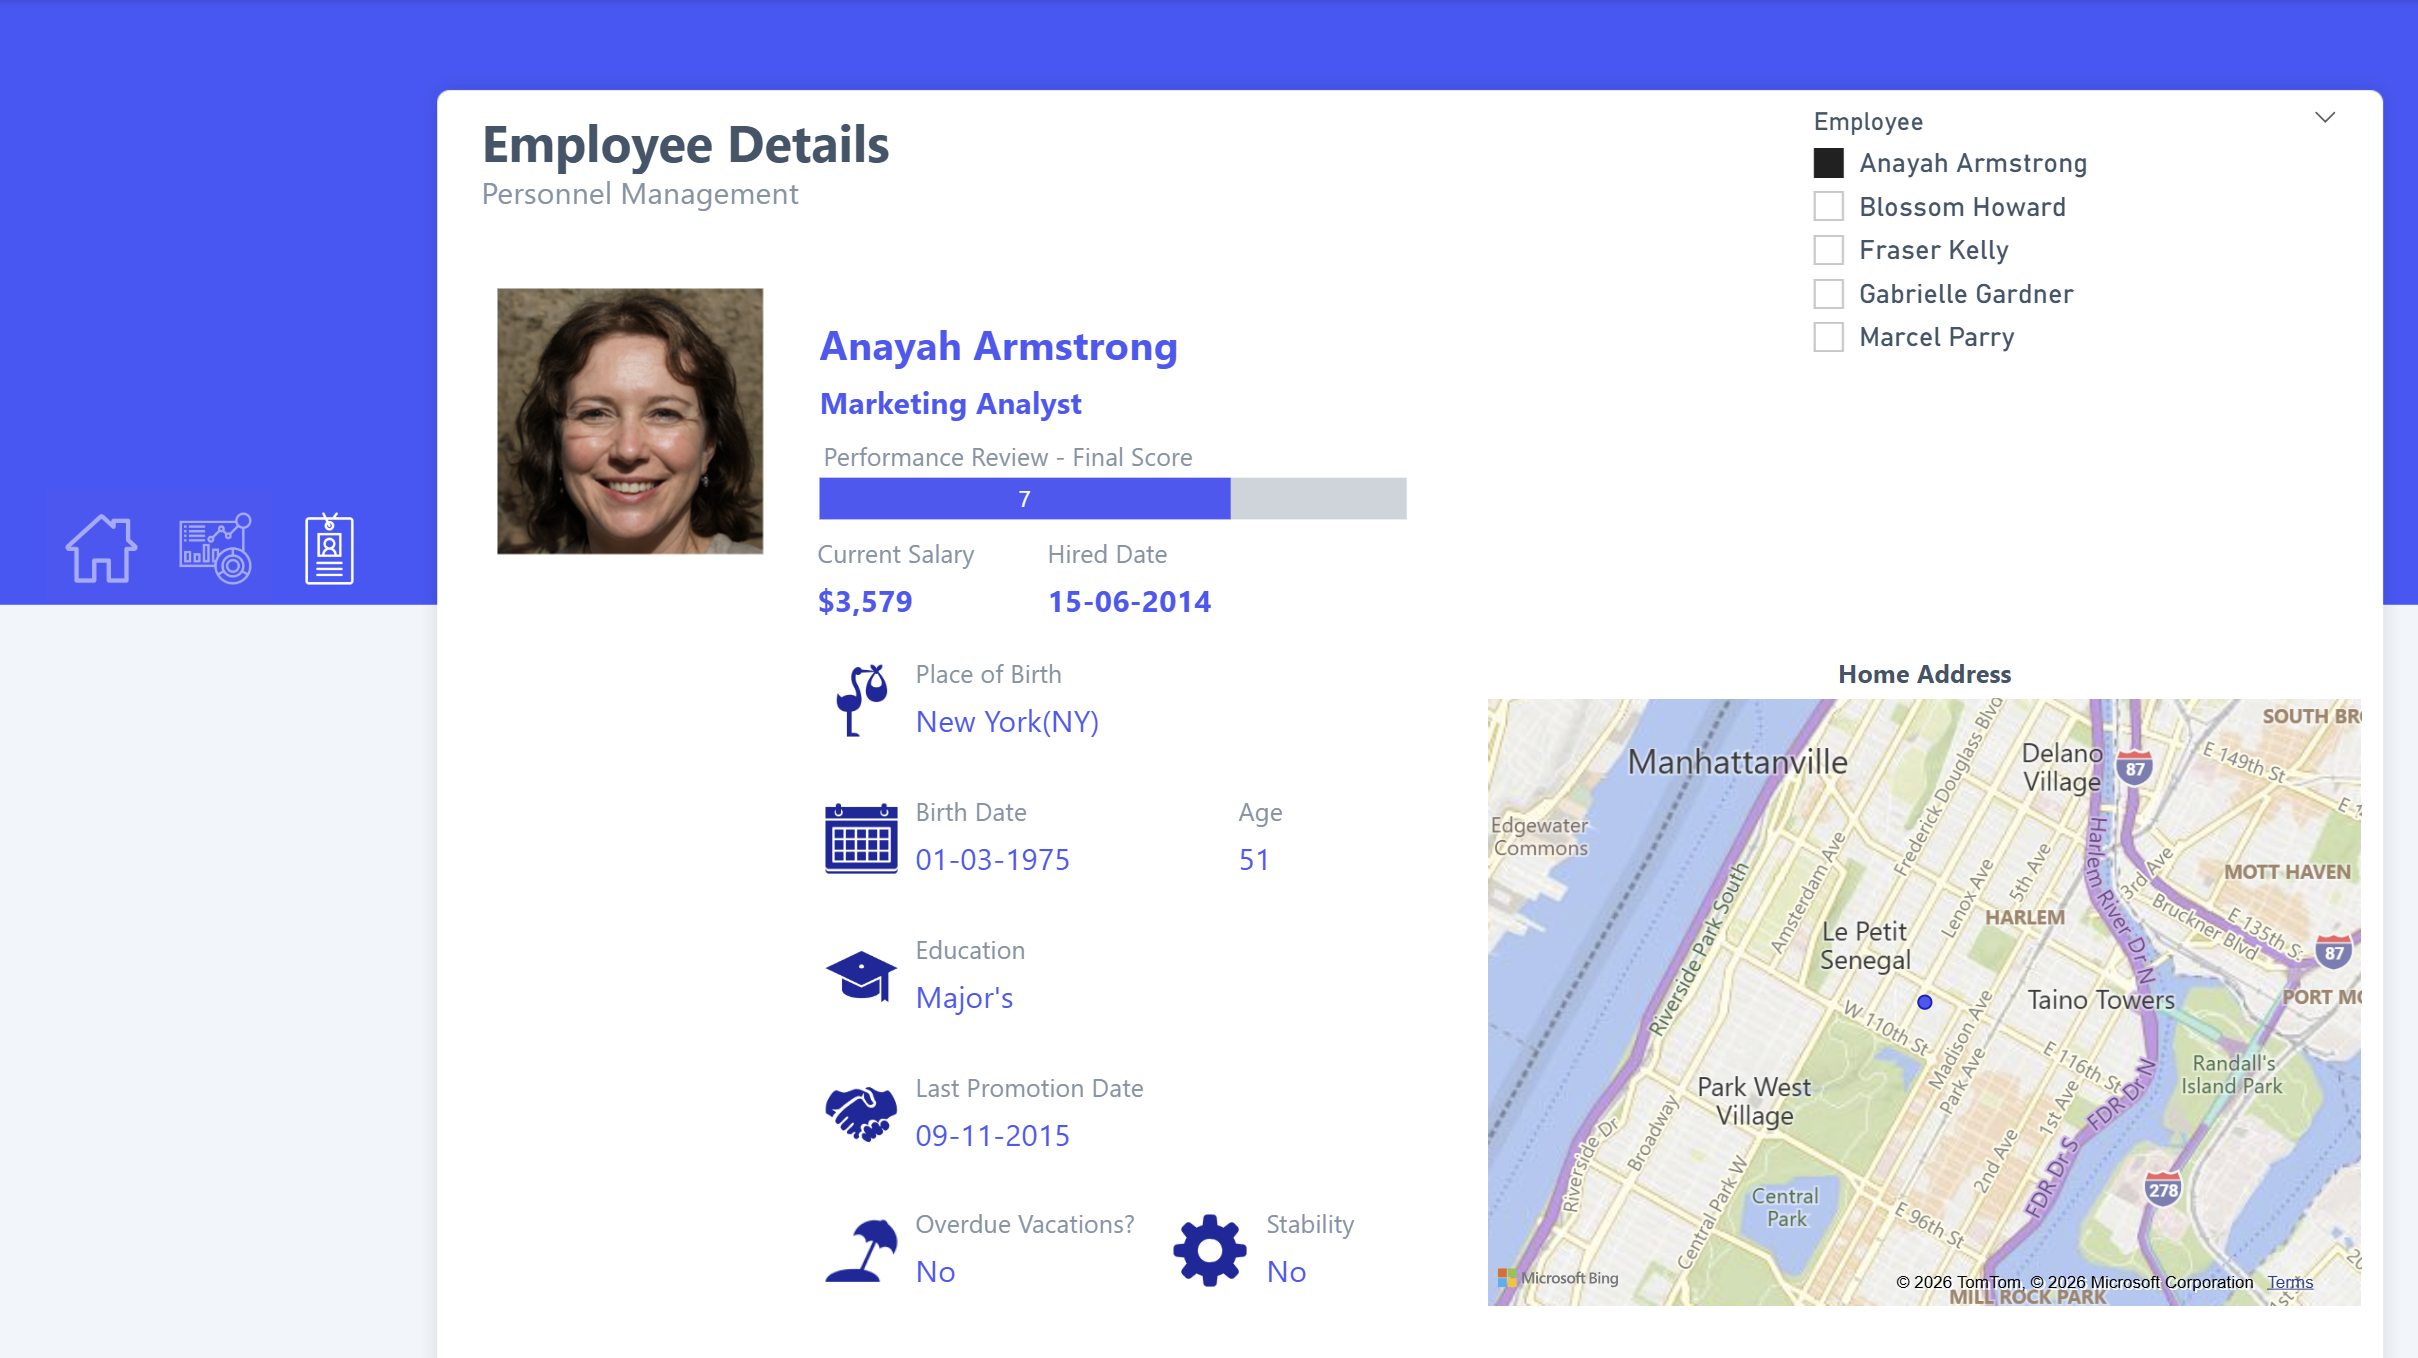

What the dashboard file says about the page in this screenshot:
{"tool":"powerbi","page":{"name":"Details","canvas":[1280,720],"ordinal":4},"visuals":[{"type":"image","box":[34,266,48,48],"z":0},{"type":"image","box":[94,266,48,48],"z":1000},{"type":"image","box":[154,266,48,48],"z":2000},{"type":"basicShape","box":[28,258,60,60],"z":3000},{"type":"basicShape","box":[88,258,60,60],"z":4000},{"type":"basicShape","box":[148,258,60,60],"z":5000},{"type":"actionButton","box":[28,260,60,60],"z":6000},{"type":"actionButton","box":[148,260,60,60],"z":7000},{"type":"actionButton","box":[88,260,60,60],"z":8000},{"type":"textbox","box":[252.6,51.6,529.8,55.4],"z":9000},{"type":"textbox","box":[252.6,85.1,529.8,42.5],"z":10000},{"type":"slicer","fields":{"Values":["EmployeeProfile.Employee"]},"box":[947.1,51.6,301.1,252],"z":11000},{"type":"simpleImageEBC4593F96F1425FB3D84C5BF02B5075","fields":{"imageURL":["EmployeeProfile.Picture"]},"box":[261.9,148,149.8,166.8],"z":12000},{"type":"multiRowCard","fields":{"Values":["EmployeeProfile.Employee"]},"box":[431,162.6,474.8,47.3],"z":13000},{"type":"multiRowCard","title":"Cargo","fields":{"Values":["fEmployee.Position"]},"box":[431,196,275,58],"z":14000},{"type":"multiRowCard","title":"Hired Date","fields":{"Values":["fEmployee.Hire Date"]},"box":[551,283,176,58],"z":15000},{"type":"multiRowCard","title":"Current Salary","fields":{"Values":["Sum(EmployeeProfile.Salary)"]},"box":[430.1,283,121.3,57.6],"z":16000},{"type":"barChart","title":"Nota - Avaliação de Desempenho","fields":{"Y":["Sum(EmployeeProfile.Performance Review)","Sum(EmployeeProfile.Performance Review Evaluation)"]},"box":[431,239,319,40],"z":17000},{"type":"textbox","box":[433,227,317,31],"z":18000},{"type":"image","box":[434,346,48,48],"z":19000},{"type":"image","box":[434,418.5,48,48],"z":20000},{"type":"image","box":[434,491,48,48],"z":21000},{"type":"image","box":[434,563.5,48,48],"z":22000},{"type":"image","box":[434,636,48,48],"z":23000},{"type":"image","box":[618,636,48,48],"z":24000},{"type":"multiRowCard","title":"Place of Birth","fields":{"Values":["EmployeeProfile.Place of Birth"]},"box":[482,346,176,58],"z":25000},{"type":"multiRowCard","title":"Birth Date","fields":{"Values":["fEmployee.Birth Date"]},"box":[482,419,166,58],"z":26000},{"type":"multiRowCard","title":"Education","fields":{"Values":["fEmployee.Education"]},"box":[482,491,176,58],"z":27000},{"type":"multiRowCard","title":"Last Promotion Date","fields":{"Values":["EmployeeProfile.Last Promotion Date"]},"box":[482,564,224,58],"z":28000},{"type":"multiRowCard","title":"Overdue Vacations?","fields":{"Values":["EmployeeProfile.Overdue Vacation?"]},"box":[482,636,131,58],"z":29000},{"type":"multiRowCard","title":"Age","fields":{"Values":["Sum(fEmployee.Age)"]},"box":[651,419,106,58],"z":30000},{"type":"multiRowCard","title":"Stability","fields":{"Values":["EmployeeProfile.Stability"]},"box":[666,636,149,58],"z":31000},{"type":"map","title":"Home Address","fields":{"Category":["EmployeeProfile.Abbreviation","EmployeeProfile.City","EmployeeProfile.Address"]},"box":[783,346,470,348],"z":32000}]}

Visuals, with their boxes on the page's 1280x720 design canvas (x1, y1, x2, y2). These are canvas units, not pixel positions in the 2418x1358 screenshot, which may show the page scaled, cropped or inside an application window:
image: 34,266,82,314
image: 94,266,142,314
image: 154,266,202,314
basicShape: 28,258,88,318
basicShape: 88,258,148,318
basicShape: 148,258,208,318
actionButton: 28,260,88,320
actionButton: 148,260,208,320
actionButton: 88,260,148,320
textbox: 253,52,782,107
textbox: 253,85,782,128
slicer - EmployeeProfile.Employee: 947,52,1248,304
simpleImageEBC4593F96F1425FB3D84C5BF02B5075 - EmployeeProfile.Picture: 262,148,412,315
multiRowCard - EmployeeProfile.Employee: 431,163,906,210
"Cargo" multiRowCard: 431,196,706,254
"Hired Date" multiRowCard: 551,283,727,341
"Current Salary" multiRowCard: 430,283,551,341
"Nota - Avaliação de Desempenho" barChart: 431,239,750,279
textbox: 433,227,750,258
image: 434,346,482,394
image: 434,418,482,466
image: 434,491,482,539
image: 434,564,482,612
image: 434,636,482,684
image: 618,636,666,684
"Place of Birth" multiRowCard: 482,346,658,404
"Birth Date" multiRowCard: 482,419,648,477
"Education" multiRowCard: 482,491,658,549
"Last Promotion Date" multiRowCard: 482,564,706,622
"Overdue Vacations?" multiRowCard: 482,636,613,694
"Age" multiRowCard: 651,419,757,477
"Stability" multiRowCard: 666,636,815,694
"Home Address" map: 783,346,1253,694
